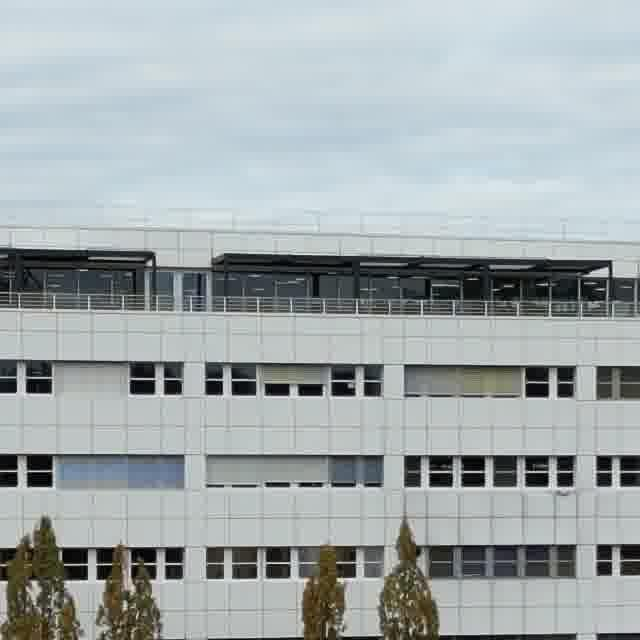Drohne: (556, 488, 571, 495)
